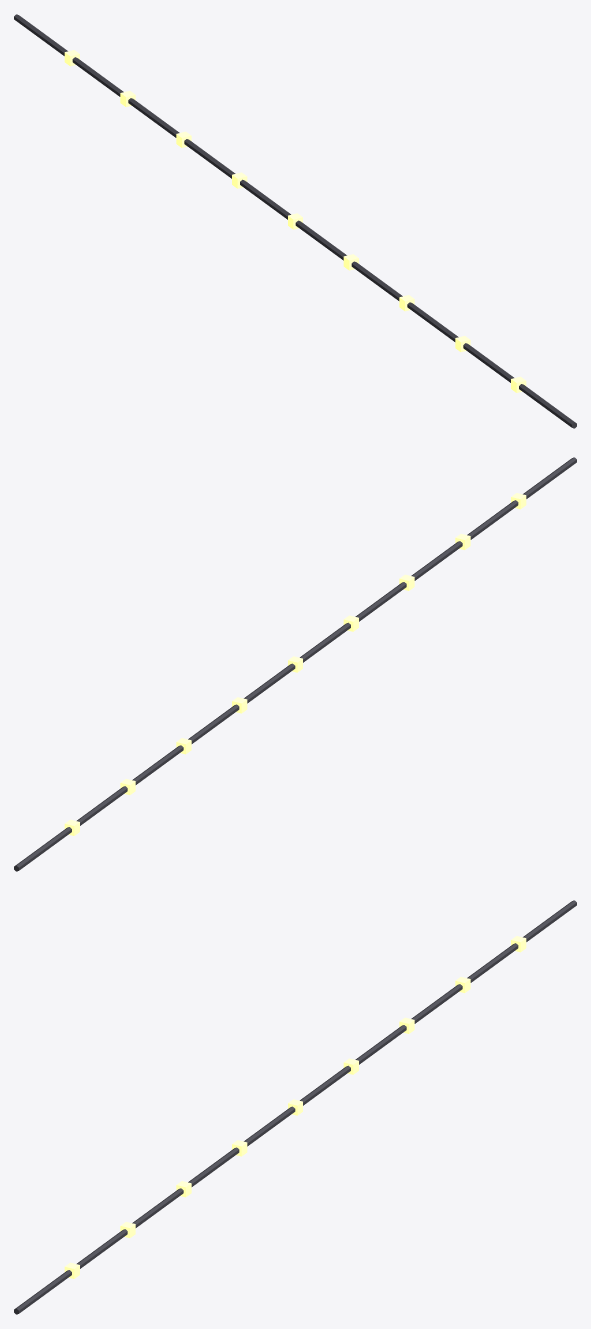
Rendered from zipline_cable_10m_v1.glb.
3 views of the same model, one above another, from view 1: azimuth 30°, elevation 25°; view 2: azimuth 150°, elevation 25°; view 3: azimuth 330°, elevation 25° (orthographic).
Parts seen in each view (by area): view 1: zipline_cable_10m; view 2: zipline_cable_10m; view 3: zipline_cable_10m.
Boxes of the visible parts, bbox=[...] form: zipline_cable_10m: bbox=[14, 14, 576, 428]; zipline_cable_10m: bbox=[14, 457, 576, 871]; zipline_cable_10m: bbox=[14, 900, 576, 1314].
Size of the model in its own units: 0.1 by 0.1 by 10.
